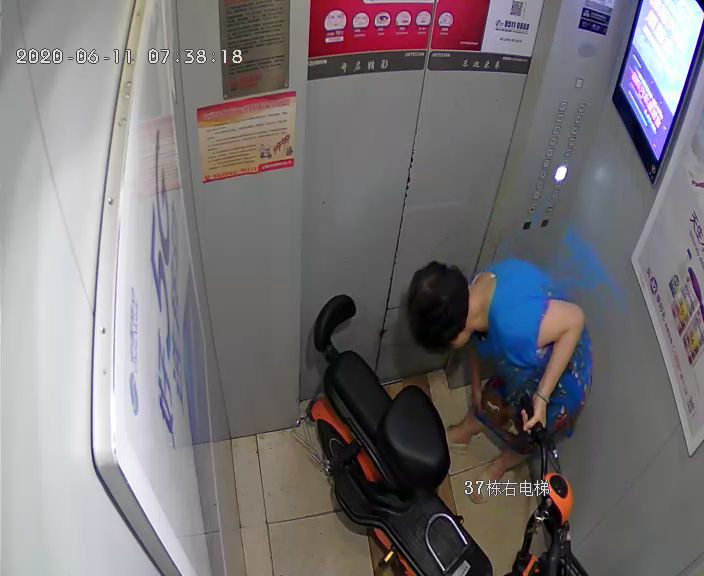Electric-bicycle: (315, 296, 572, 571)
